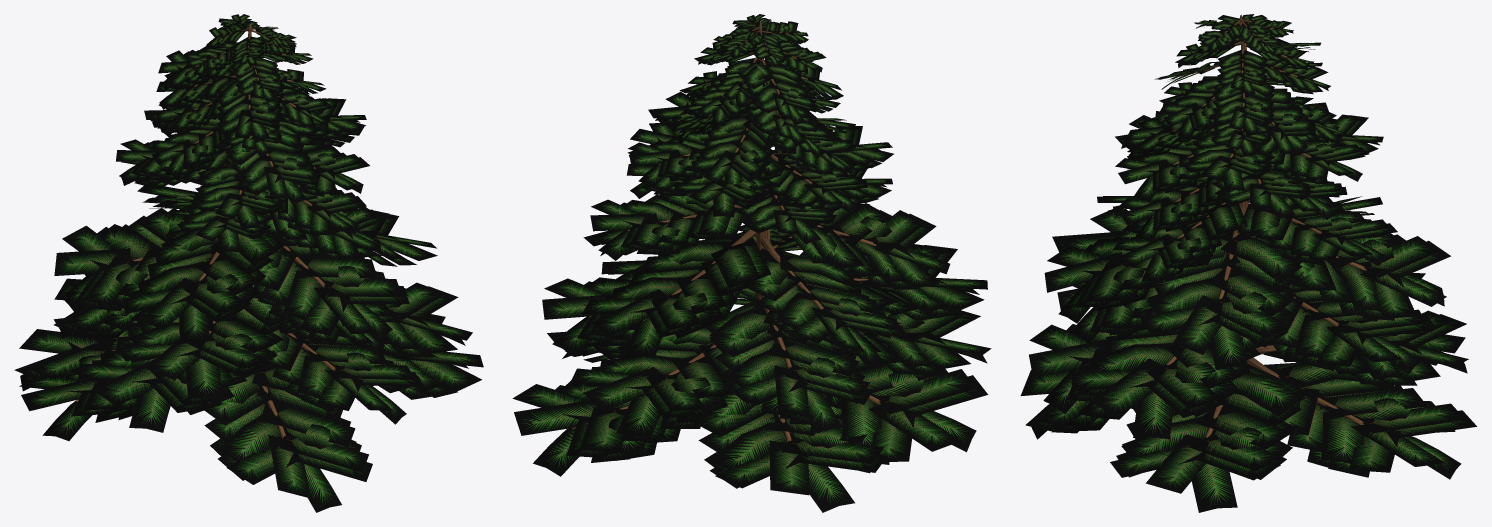
The model's file is PineTree-1 1.fbx.
3 views of the same model, side by side, from view 1: azimuth 30°, elevation 25°; view 2: azimuth 150°, elevation 25°; view 3: azimuth 270°, elevation 25° (orthographic). The views are drawn at different scales.
Visible parts, largest first — view 1: PineTree-1_LOD00; view 2: PineTree-1_LOD00; view 3: PineTree-1_LOD00.
Boxes of the visible parts, x1=… form: PineTree-1_LOD00: x1=14, y1=14, x2=483, y2=512; PineTree-1_LOD00: x1=512, y1=14, x2=991, y2=512; PineTree-1_LOD00: x1=1020, y1=14, x2=1476, y2=512.
Size of what is drawn, in the model's own units: 13113 by 12113 by 12499.
